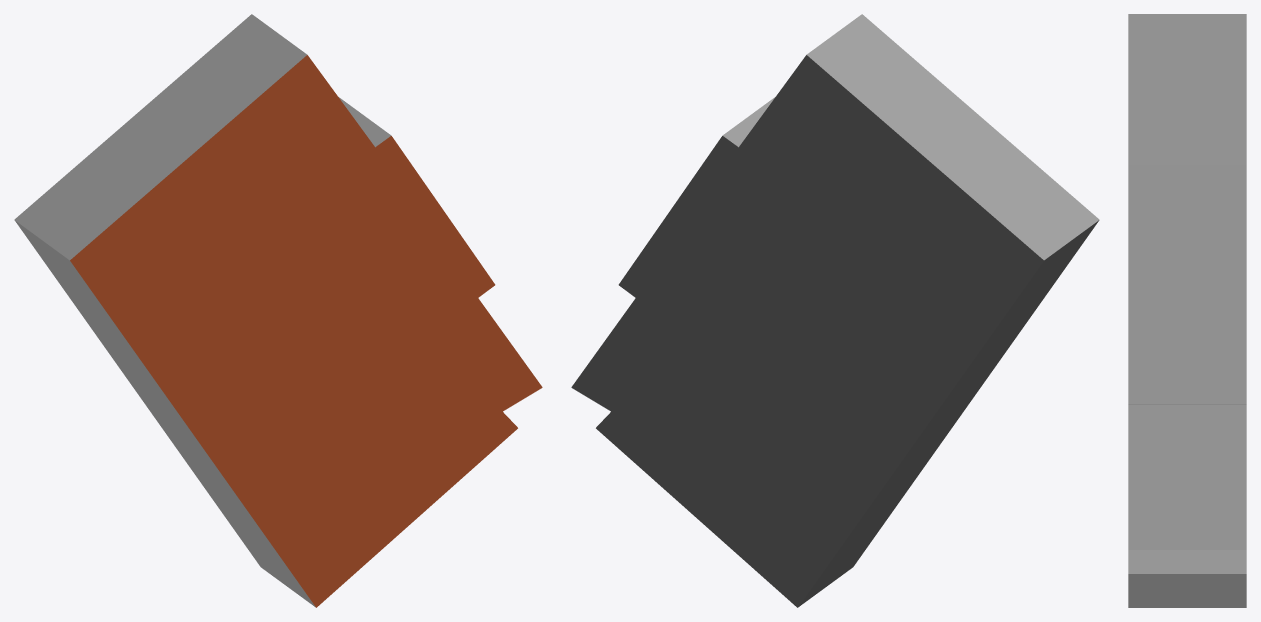
Rendered from construction_5890_assumed_A_Casa_h6m.obj.
The picture shows the model from 3 angles, left to right: view 1: azimuth 30°, elevation 25°; view 2: azimuth 150°, elevation 25°; view 3: azimuth 270°, elevation 25°; orthographic projection. The views are drawn at different scales.
Parts seen in each view (by area): view 1: construction_5890_assumed_A_Casa; view 2: construction_5890_assumed_A_Casa; view 3: construction_5890_assumed_A_Casa.
Part boxes in pixels (x1=…): construction_5890_assumed_A_Casa: x1=14, y1=14, x2=542, y2=607; construction_5890_assumed_A_Casa: x1=571, y1=14, x2=1099, y2=607; construction_5890_assumed_A_Casa: x1=1128, y1=14, x2=1246, y2=607.
Size of the model in its own units: 29.42 by 33.02 by 6.
